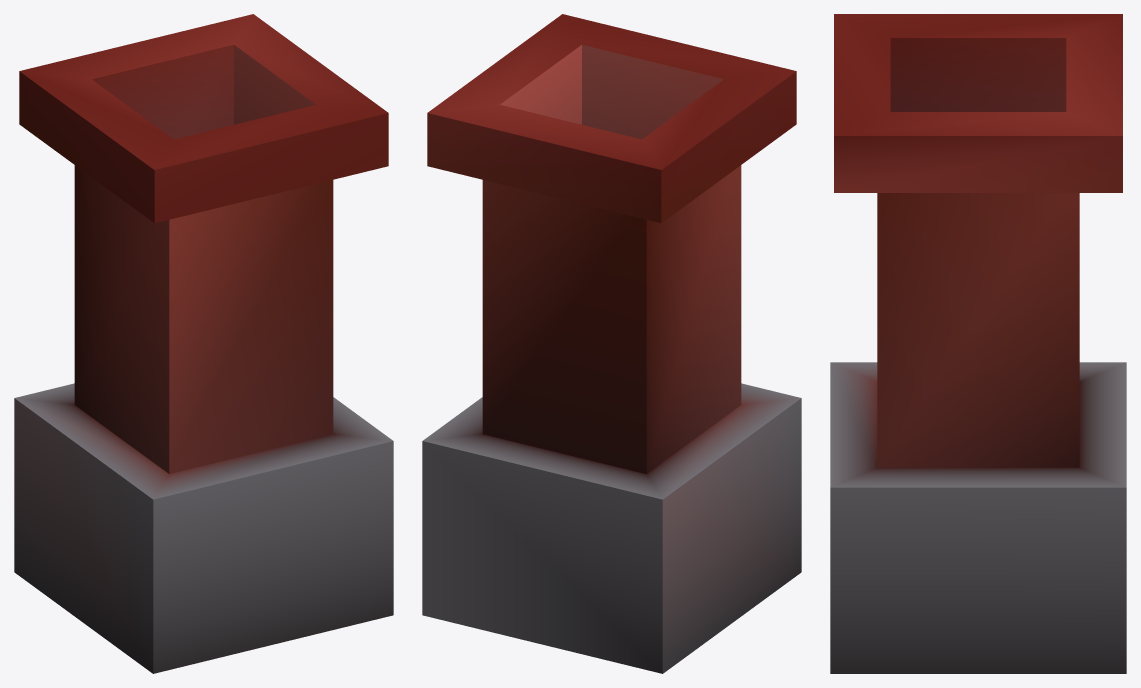
Rendered from rooftop_chimney_01.fbx.
3 renders of one model, left to right at view 1: azimuth 30°, elevation 25°; view 2: azimuth 150°, elevation 25°; view 3: azimuth 270°, elevation 25°, orthographic. The views are drawn at different scales.
Parts seen in each view (by area): view 1: Cube; view 2: Cube; view 3: Cube.
Part boxes in pixels (box(x1,y1,x2,y2)): Cube: box(14, 14, 393, 673); Cube: box(422, 14, 801, 673); Cube: box(830, 14, 1126, 673).
Bounding box in the file's own units: 200 × 399 × 200.
